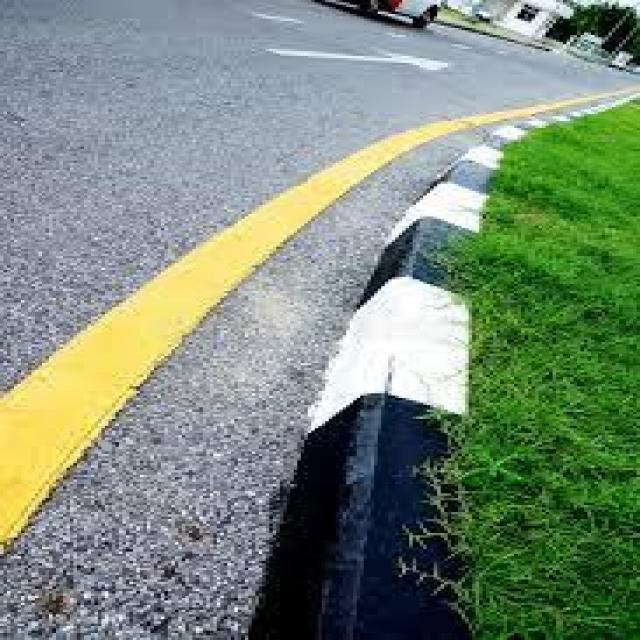curb: (276, 267, 486, 640), (364, 134, 524, 271)
